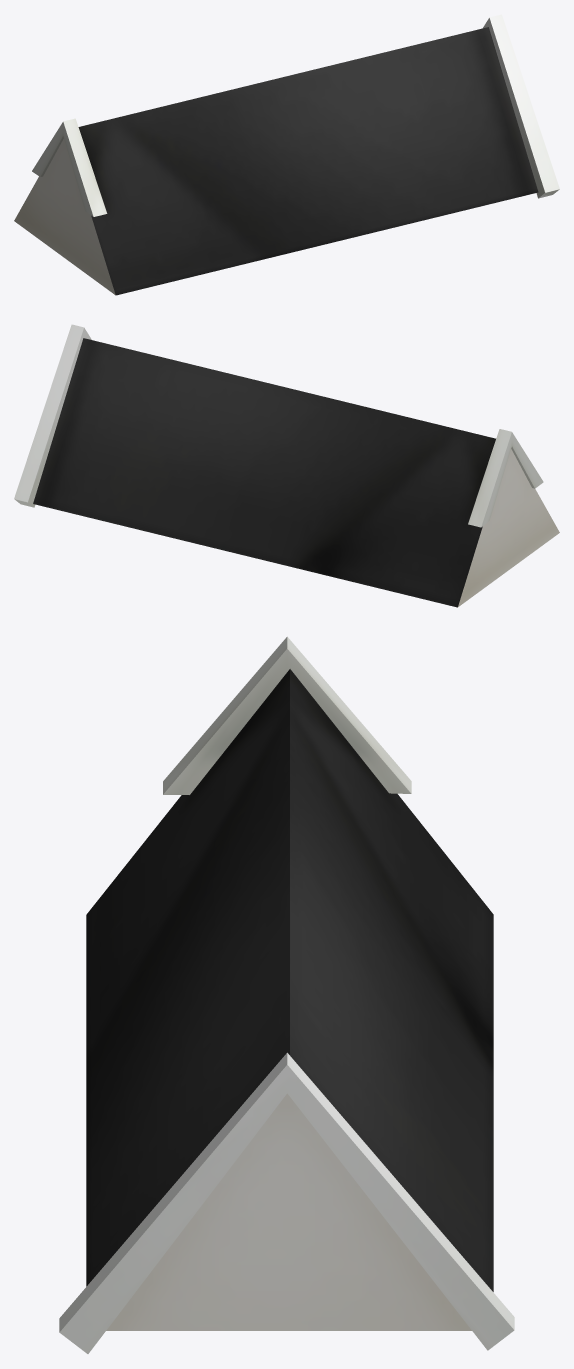
File: B11Broke03.FBX
3 renders of one model, top to bottom at view 1: azimuth 30°, elevation 25°; view 2: azimuth 150°, elevation 25°; view 3: azimuth 270°, elevation 25°, orthographic. The views are drawn at different scales.
Visible parts, largest first — view 1: B11Broke03; view 2: B11Broke03; view 3: B11Broke03.
Boxes of the visible parts, x1,y1,x2,y2 form: B11Broke03: (14, 14, 559, 295); B11Broke03: (14, 324, 559, 607); B11Broke03: (59, 636, 514, 1353).
Size of the model in its own units: 77.95 by 24.42 by 34.87.
